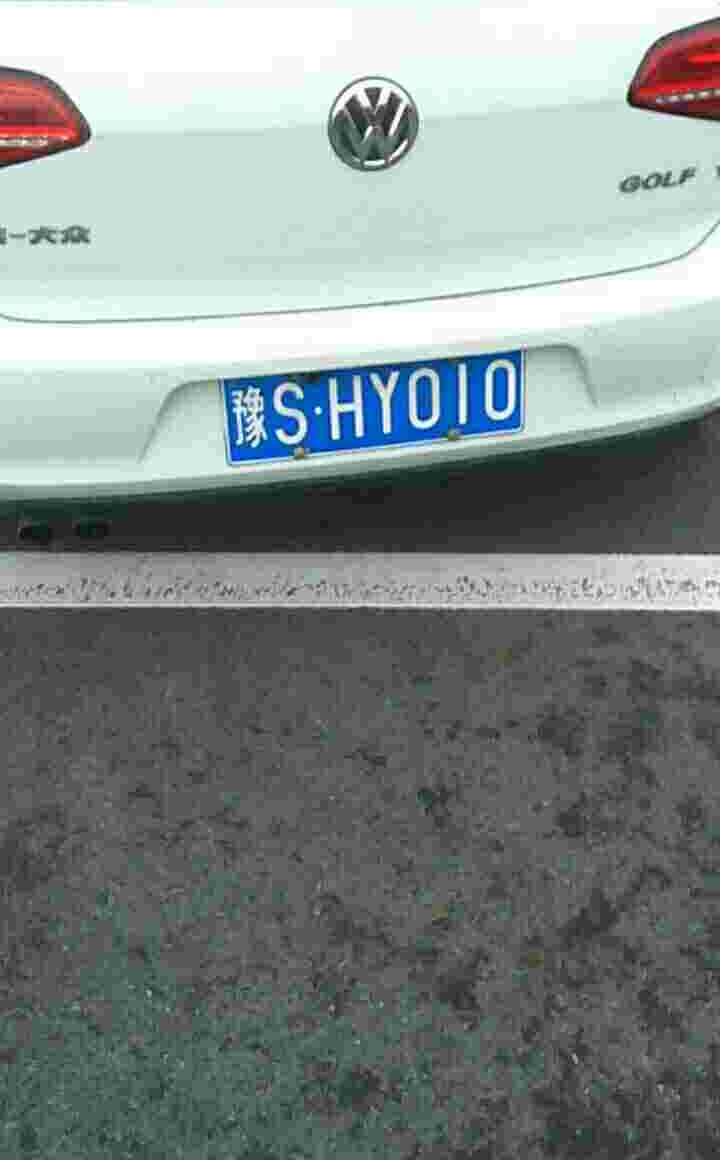car: (229, 354, 531, 442)
